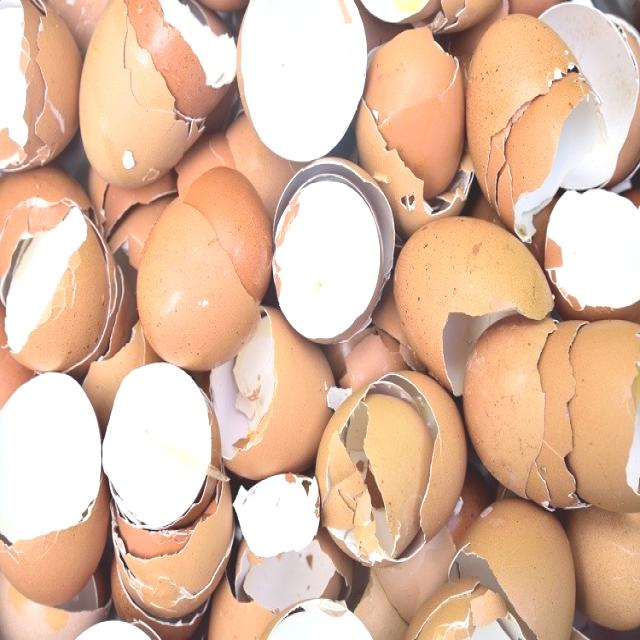organic: (137, 196, 262, 374), (361, 24, 466, 199), (449, 498, 576, 640), (492, 75, 596, 242), (378, 372, 469, 556), (562, 320, 639, 514), (540, 193, 637, 328), (218, 112, 310, 226), (1, 166, 95, 277), (327, 509, 363, 566)
